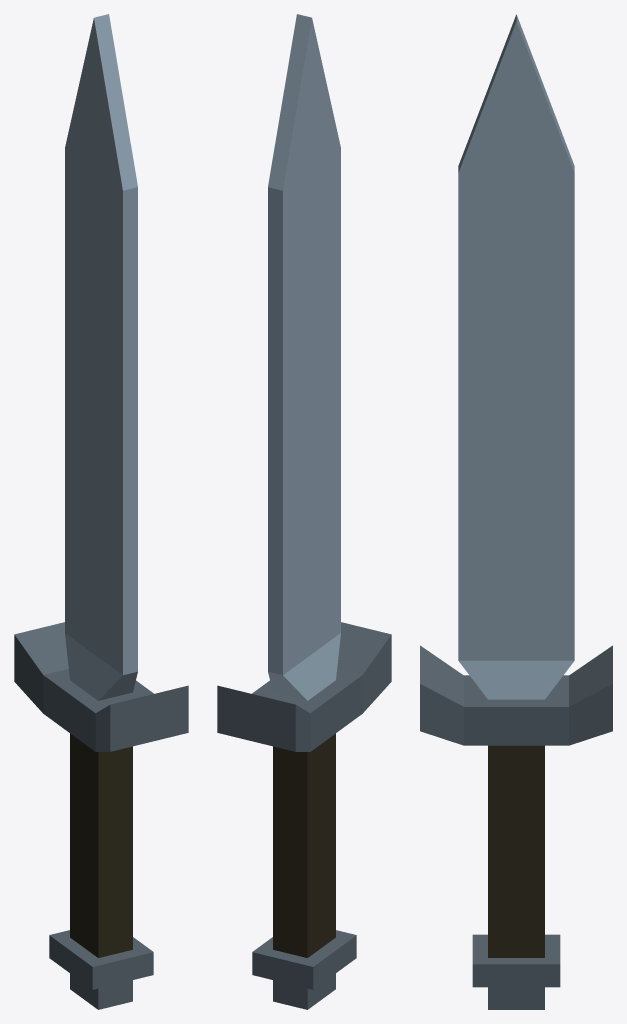
Rendered from OrcSword.fbx.
3 views of the same model, side by side, from view 1: azimuth 30°, elevation 25°; view 2: azimuth 150°, elevation 25°; view 3: azimuth 270°, elevation 25° (orthographic).
Visible parts, largest first — view 1: Sword; view 2: Sword; view 3: Sword.
Boxes of the visible parts, box(x1,y1,x2,y2) form: Sword: box(14, 14, 188, 1009); Sword: box(217, 14, 391, 1009); Sword: box(420, 14, 612, 1009).
Size of the model in its own units: 49.16 by 587 by 104.
